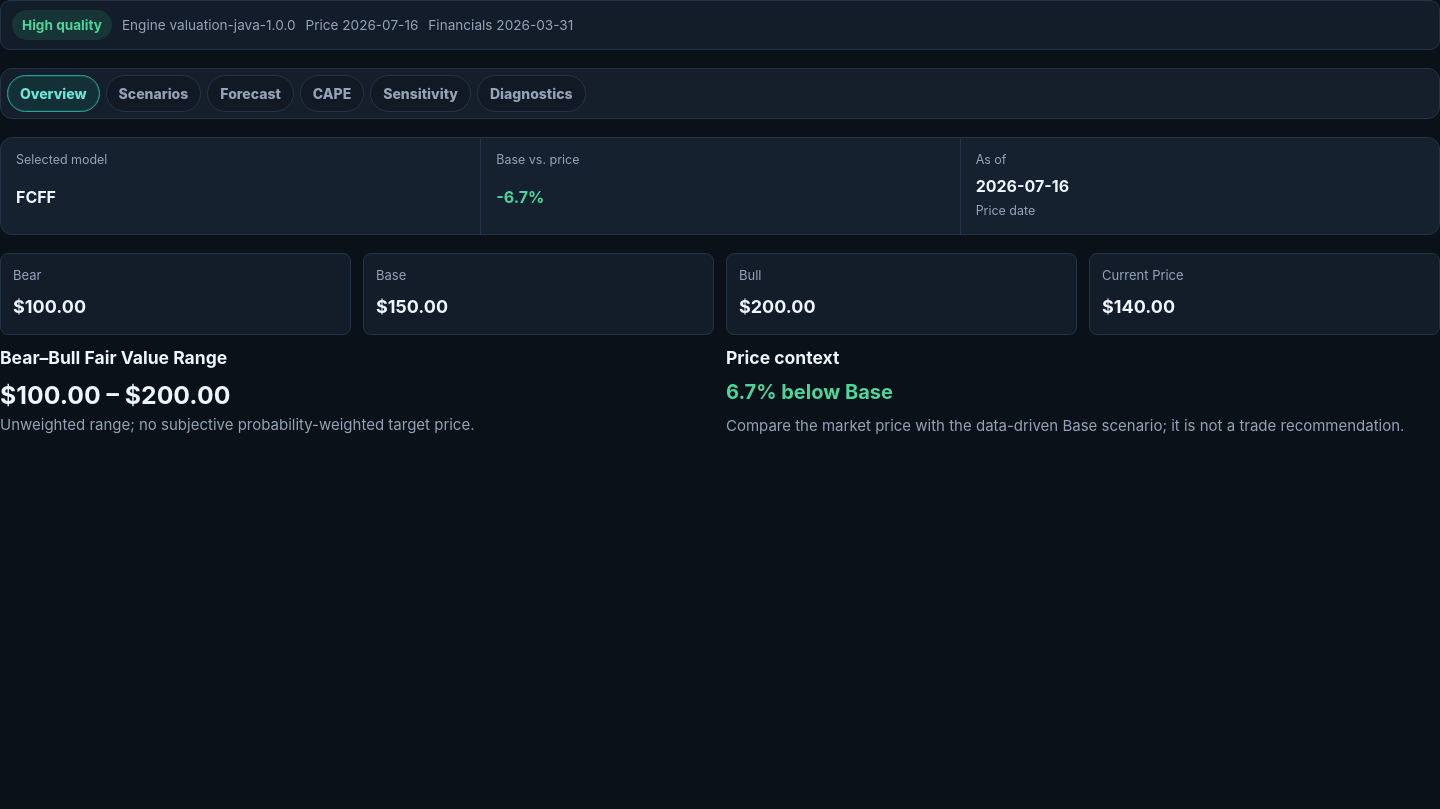
Test: ValuationWorkspace › surfaces evaluate request failures after the debounce
Click the button "Scenarios". click: (153, 94)
box: [106,75,201,112]
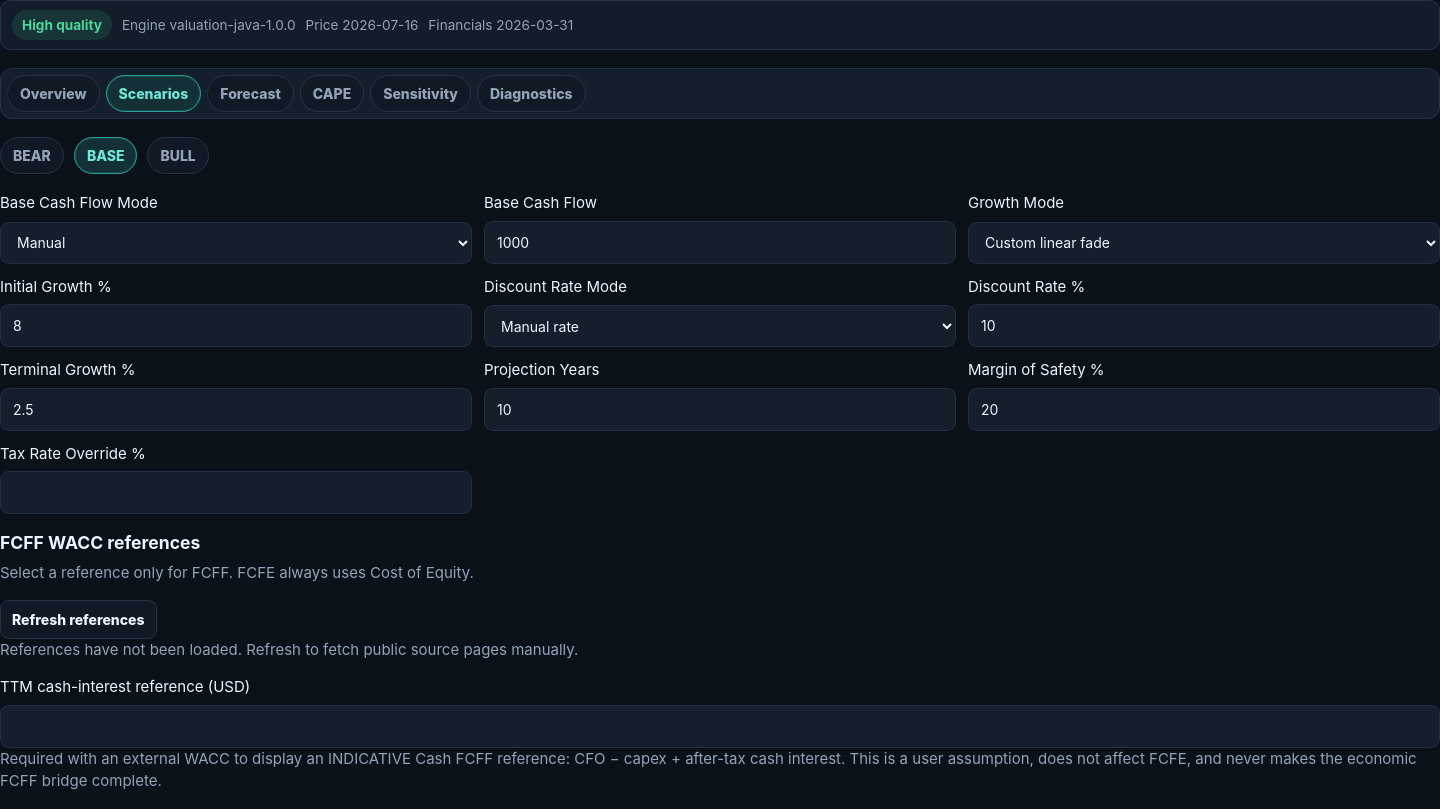
Replace the text in the number field labelled "Initial Growth %" with "9". click: (236, 326)
box: [0,304,472,347]
(page scrolled)
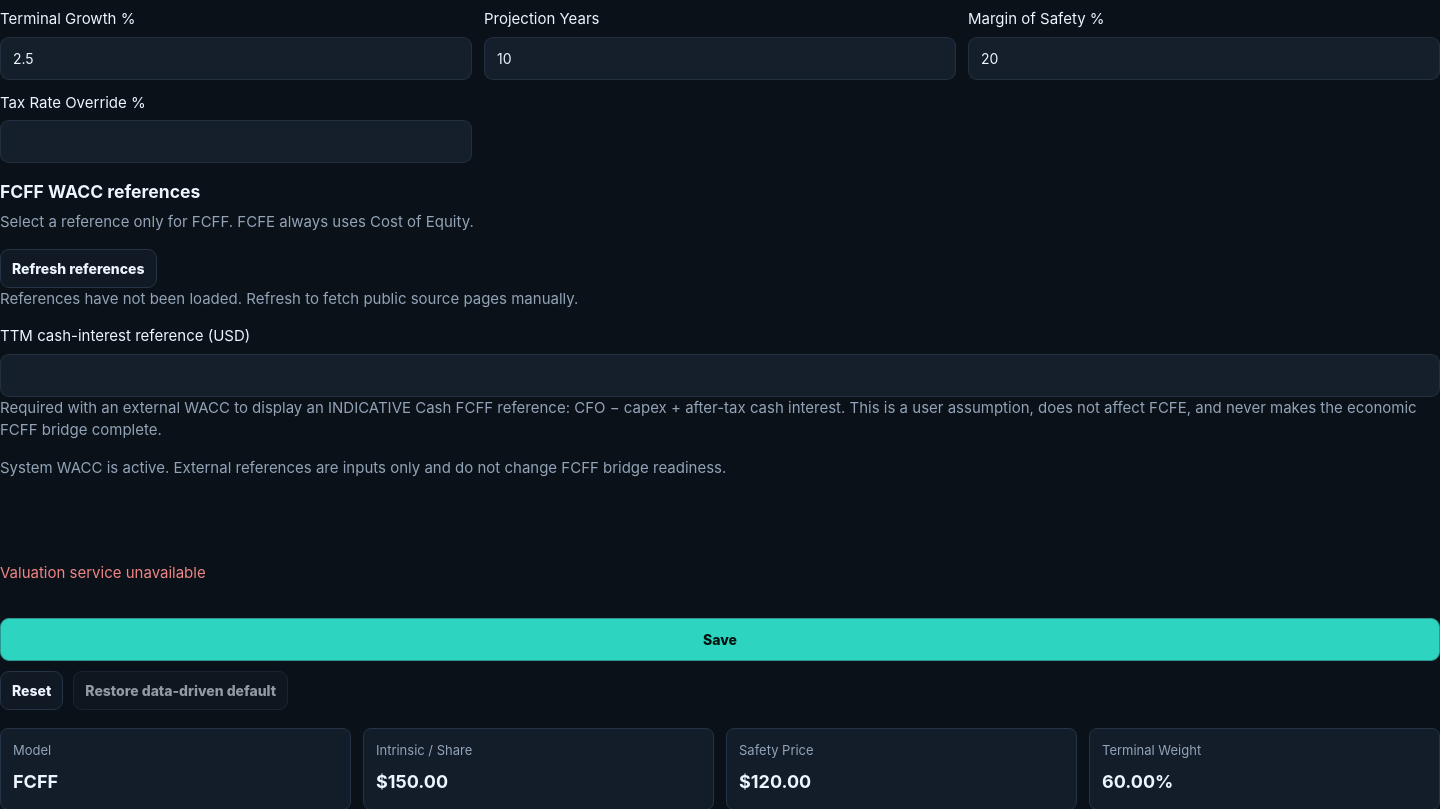
Now the text "Valuation service unavailable" is shown, box [0,563,206,582]
